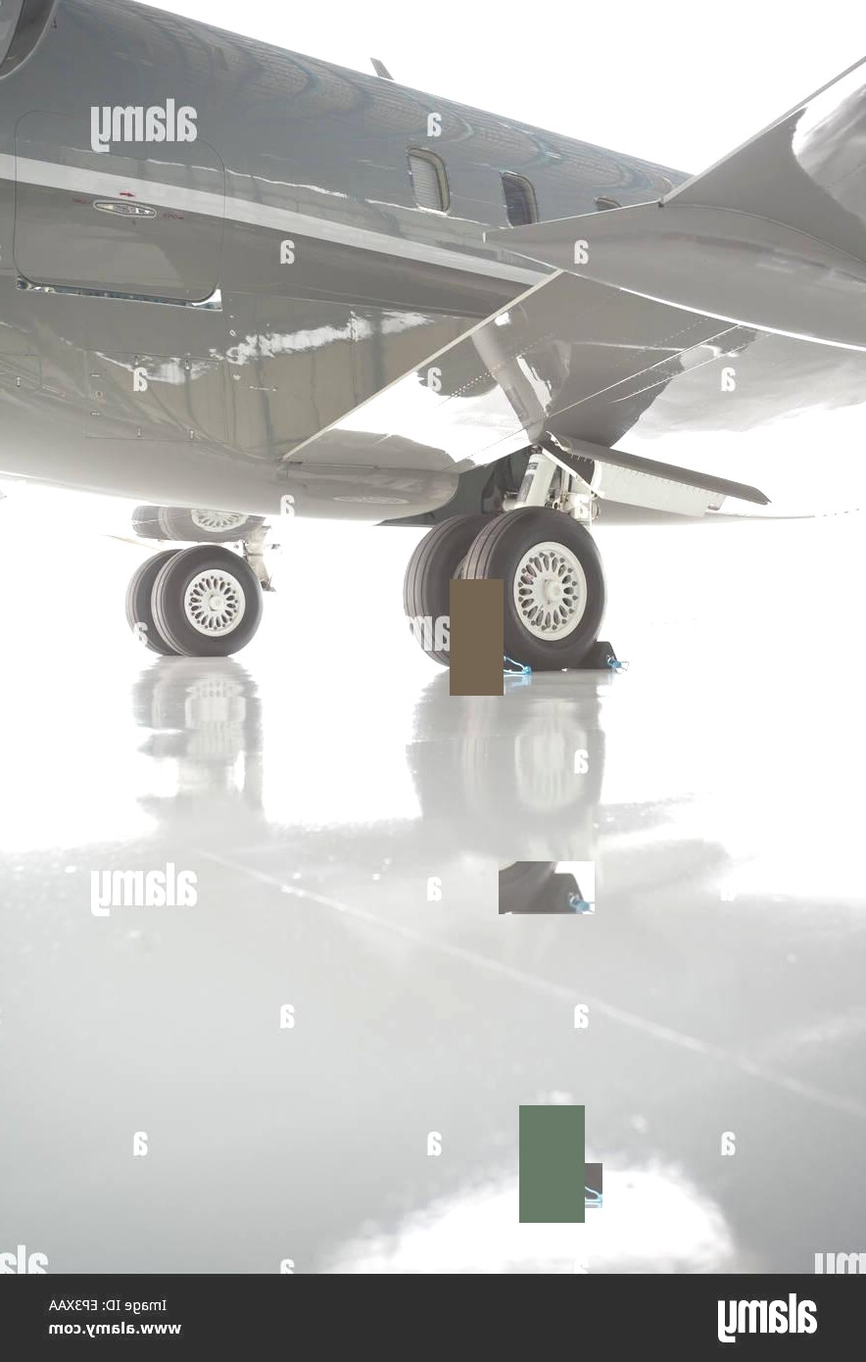chock: (499, 861, 595, 914), (520, 1163, 602, 1208), (449, 637, 527, 680), (556, 633, 625, 670)
wheel: (467, 507, 610, 667), (129, 544, 265, 657), (405, 516, 501, 667), (125, 549, 193, 652)
